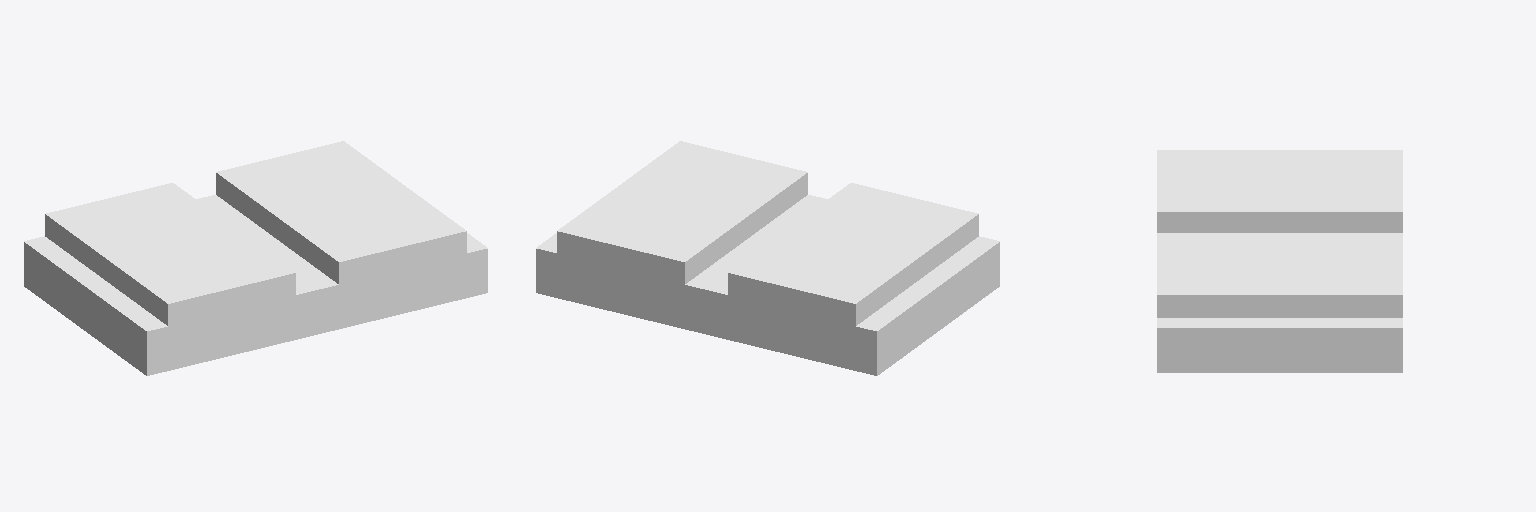
Rendered from note.obj.
3 views of the same model, side by side, from view 1: azimuth 30°, elevation 25°; view 2: azimuth 150°, elevation 25°; view 3: azimuth 270°, elevation 25° (orthographic).
Visible parts, largest first — view 1: object 1; view 2: object 1; view 3: object 1.
Part boxes in pixels (left/top/right/bottom): object 1: left=24, top=141, right=487, bottom=375; object 1: left=536, top=141, right=999, bottom=375; object 1: left=1157, top=150, right=1402, bottom=372.
Bounding box in the file's own units: 1.6 × 0.3 × 1.